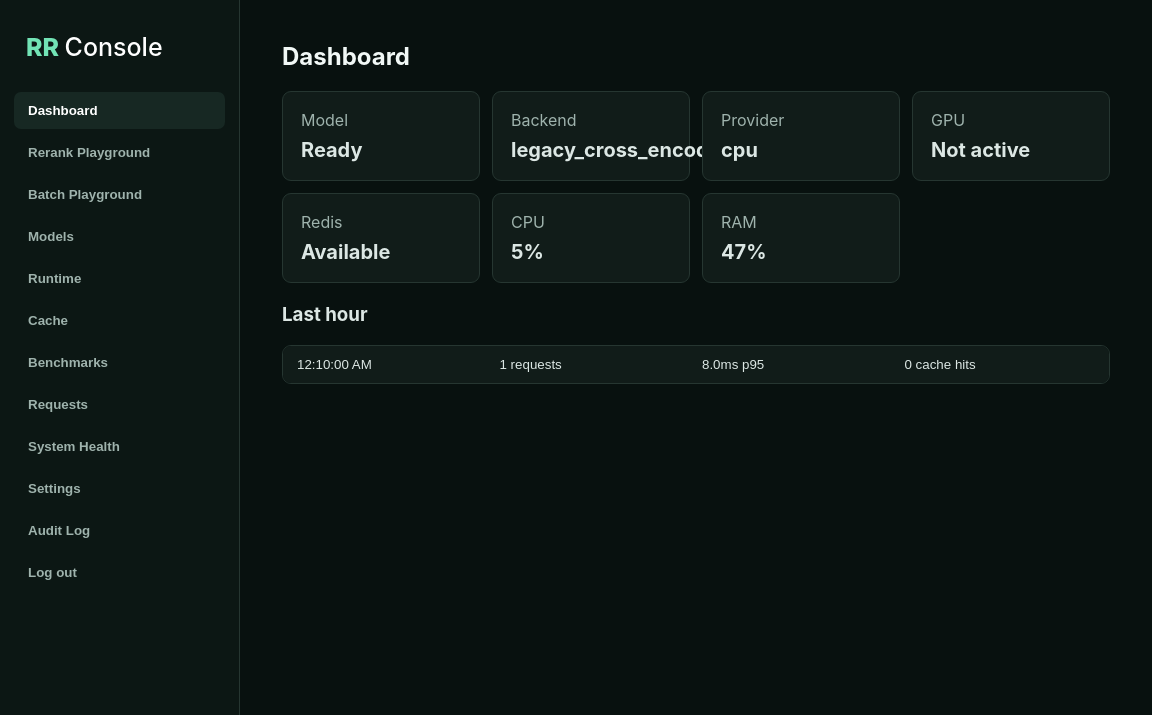
administrative controls › expands a dashboard minute into requests and their payload details
The image size is (1152, 715).
(page scrolled)
Click the button "12:10:00 AM 1 requests 8.0ms p95 0 cache hits" at [334, 364], box [283,346,1109,383]
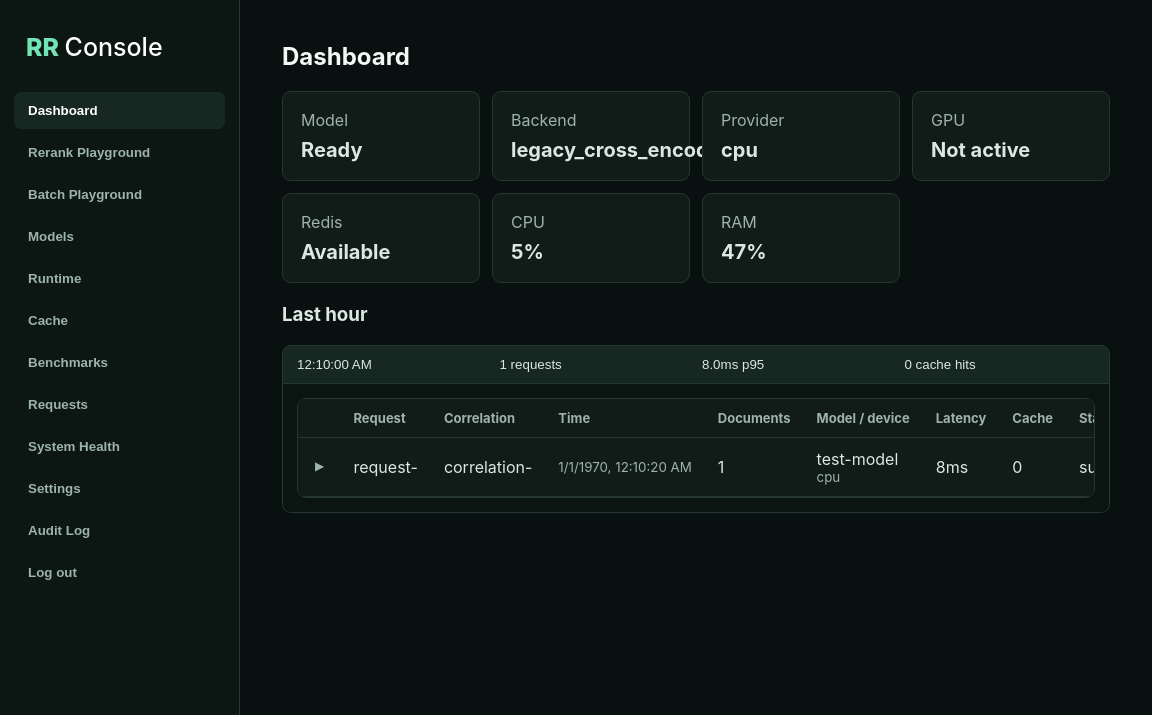
Check: the text "test-model" is shown, box [817,449,898,469]
Click the button named "Show details for request request-dashboard" at [319, 467], box [311,456,328,477]
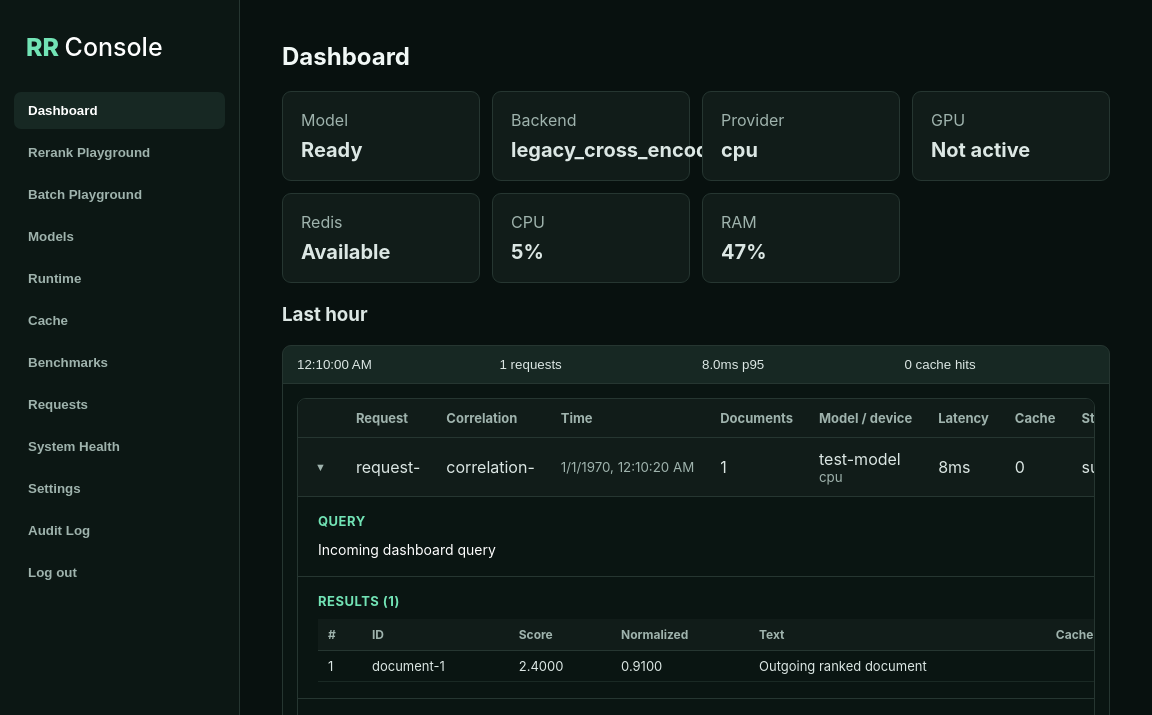
Check: the text "Incoming dashboard query" is shown, box [318,541,496,558]
Check: the text "Outgoing ranked document" is shown, box [749,650,1046,681]
